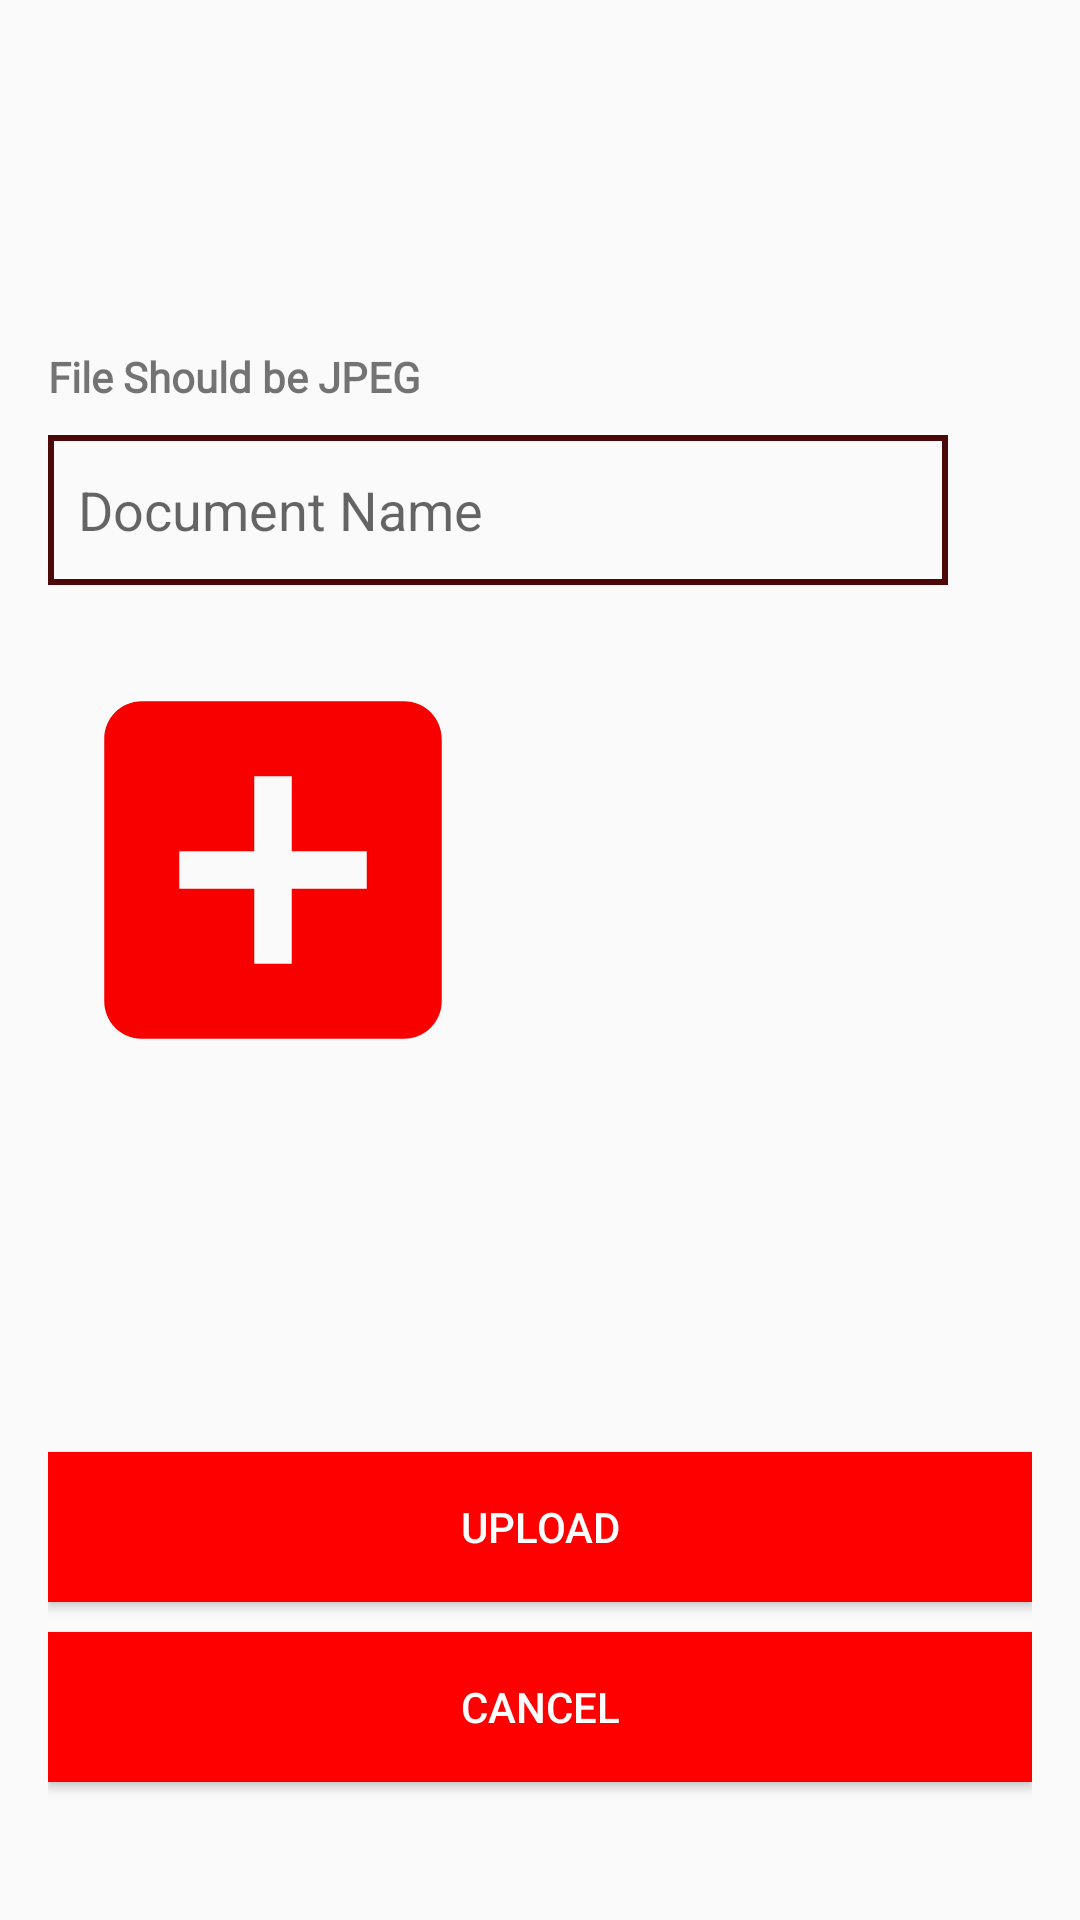

Screen size 1080px×1920px. Icon name, then its center in pixels as [x,y]:
add profile: [273,870]
